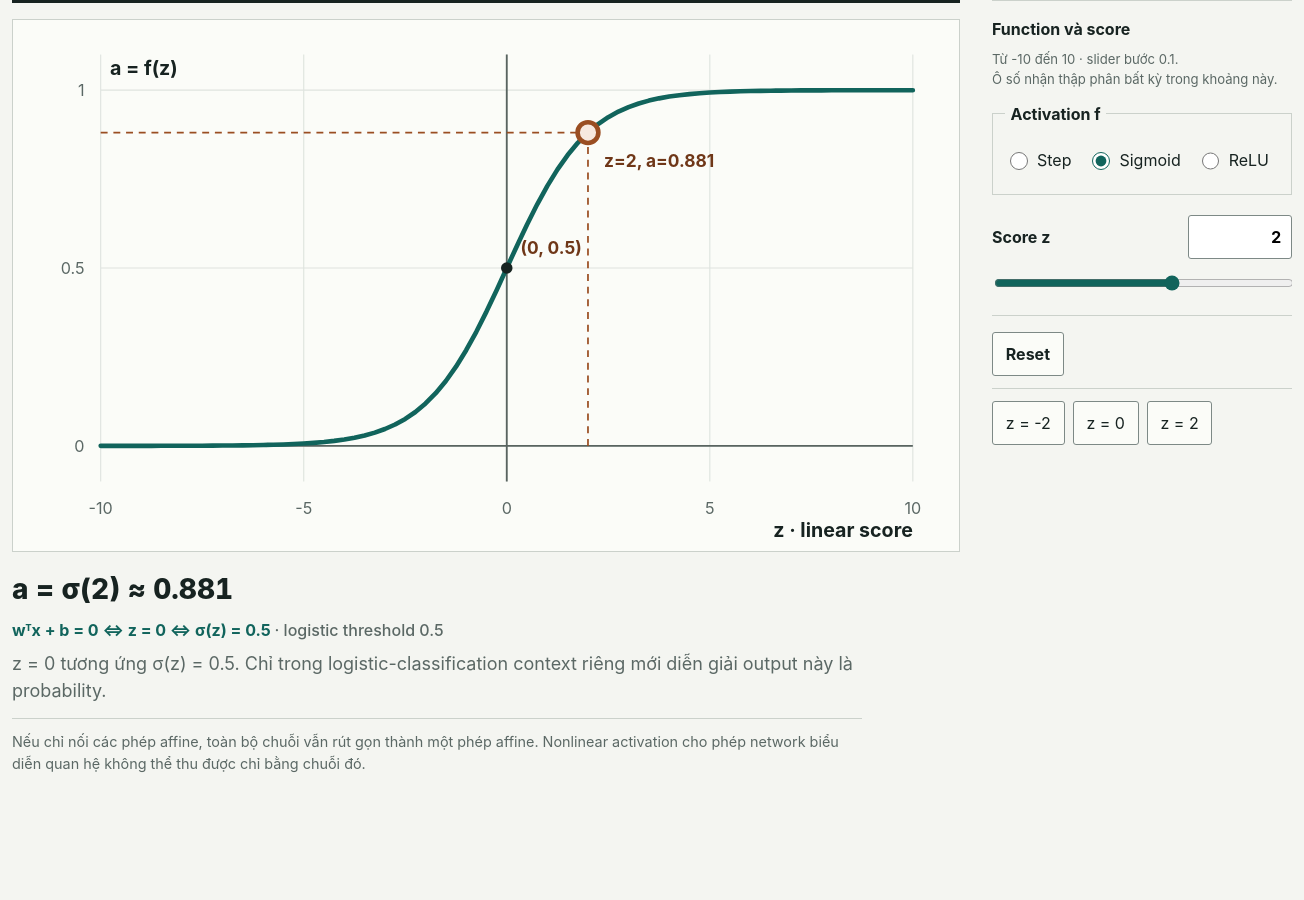
Test case: Activation Function › shows that ReLU output can exceed one
Click the radio button labelled "ReLU": click(1210, 161) [1202,152,1219,170]
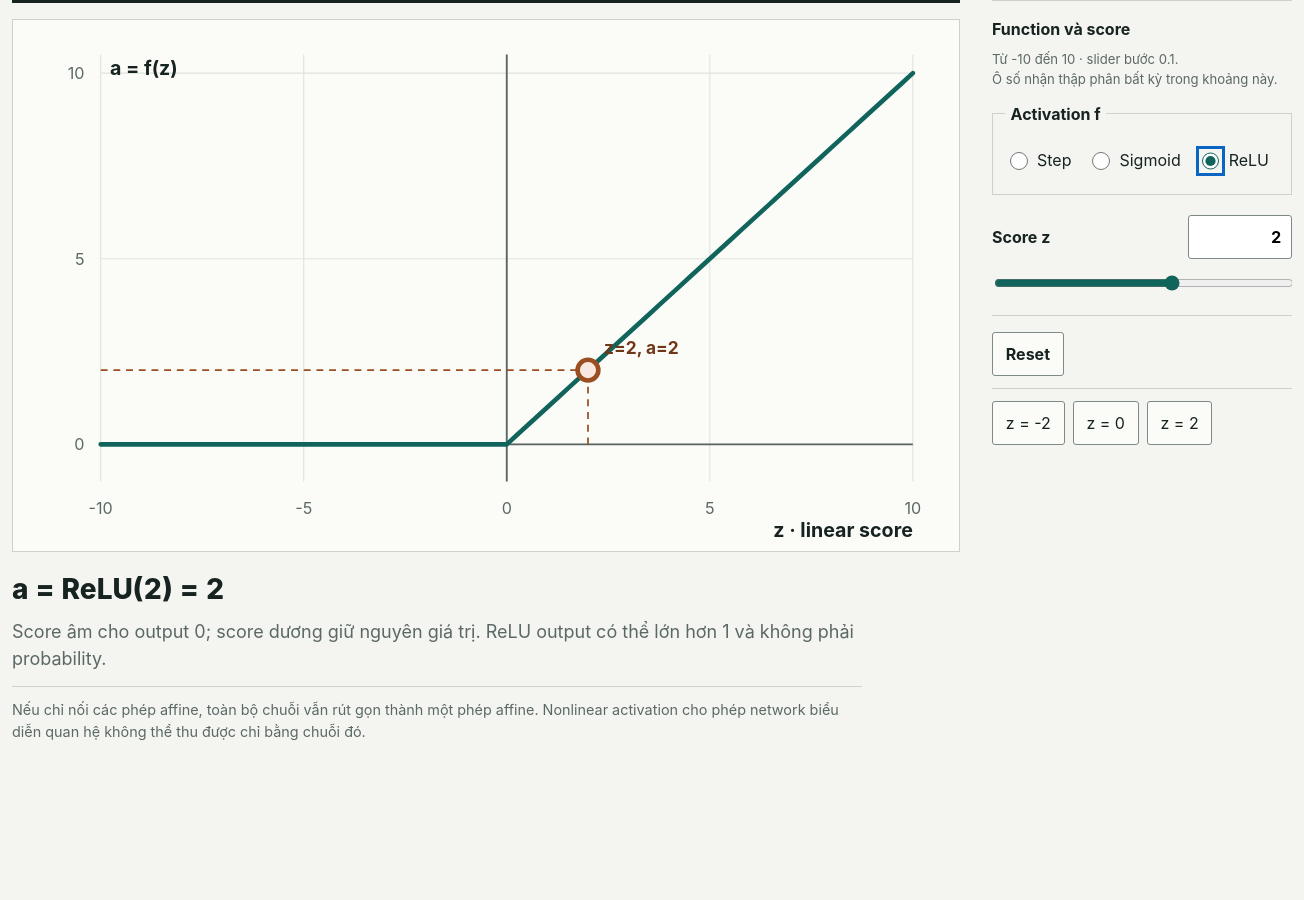
Replace the text in the field labelled "Score z" with "5": (1240, 237) [1188,215,1292,259]
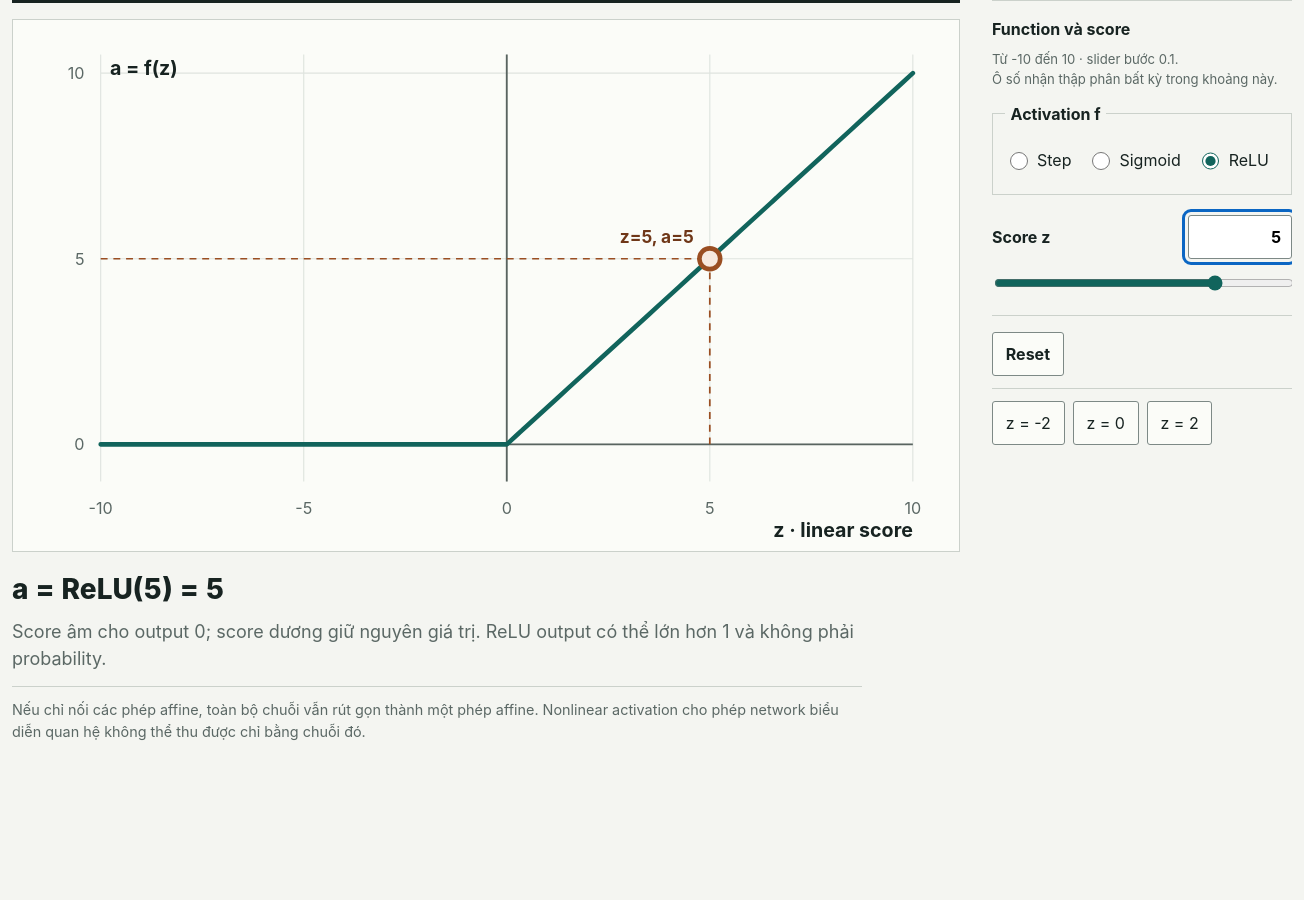
Check: the text "a = ReLU(5) = 5" is shown, box [12,572,224,606]
